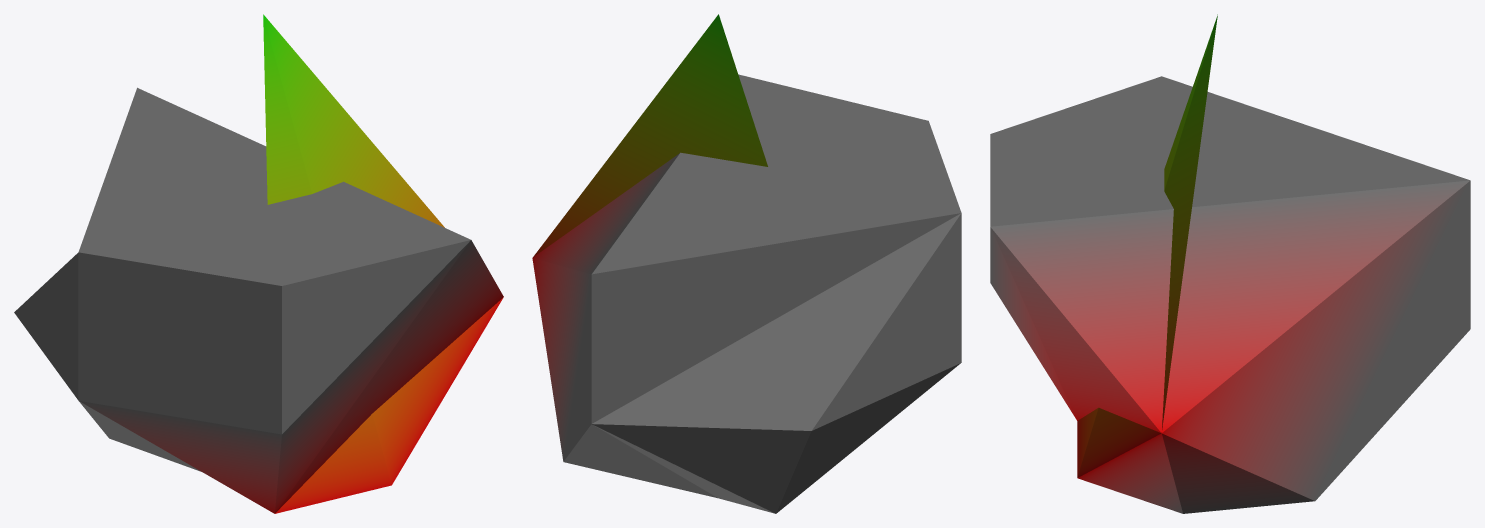
File: after_recreation_0.obj
The picture shows the model from 3 angles, left to right: view 1: azimuth 30°, elevation 25°; view 2: azimuth 150°, elevation 25°; view 3: azimuth 270°, elevation 25°; orthographic projection.
Size of the model in its own units: 1.85 by 2 by 1.81.
